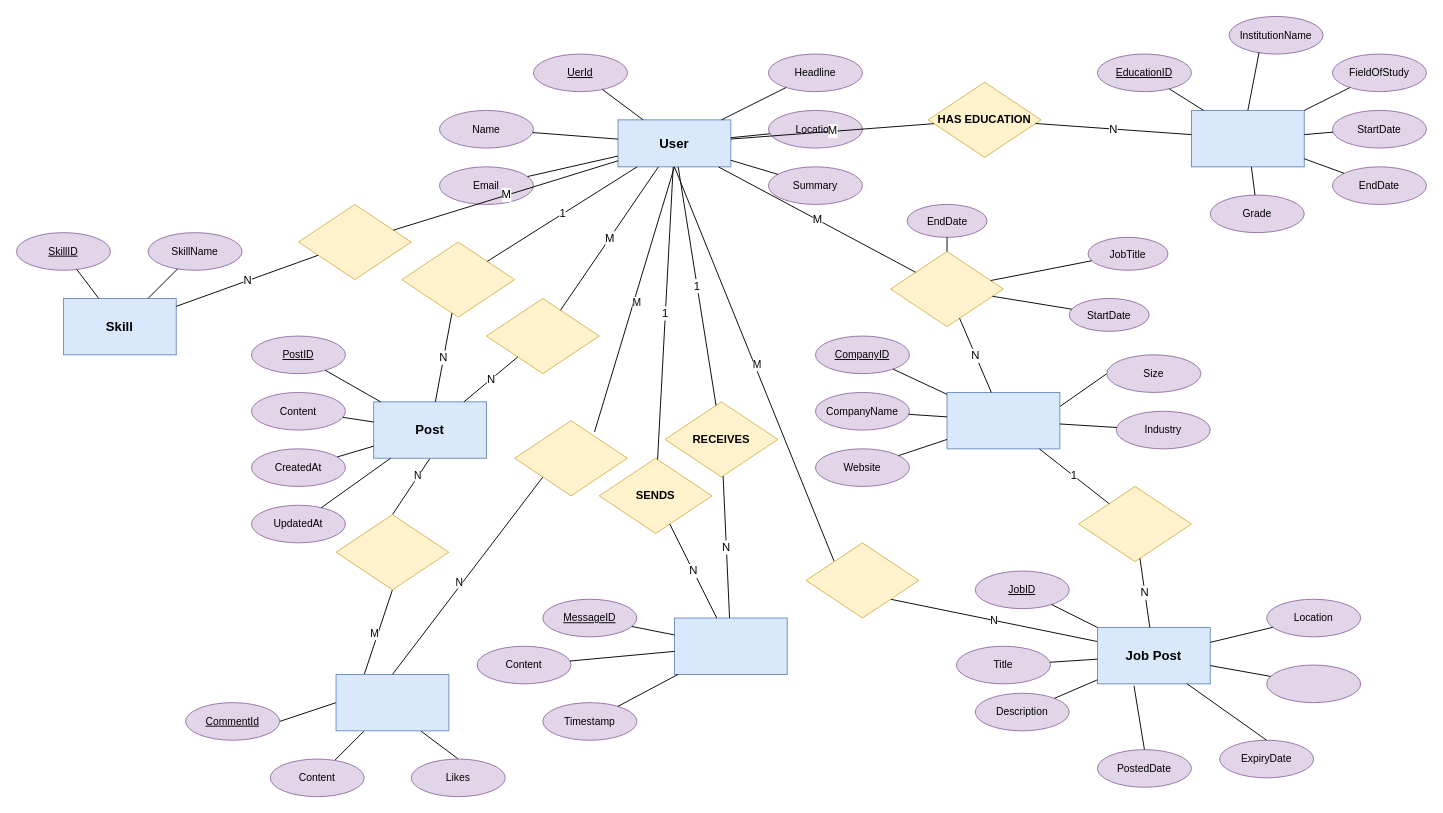
This 1443x813 diagram has some shape labels left out. The shapes that lost their labels are listed below. From the top down, each one's centre as x and y in pixels, then its label:
(x=1247, y=138): Education
(x=354, y=242): HAS SKILL
(x=458, y=279): CREATES
(x=946, y=289): WORKS FOR
(x=542, y=336): REACTS TO
(x=1003, y=420): Company
(x=570, y=458): ADDS
(x=1134, y=524): POSTS
(x=392, y=552): HAS
(x=862, y=580): APPLIES
(x=730, y=645): Message
(x=392, y=702): Comment
(x=1313, y=683): Requirements
